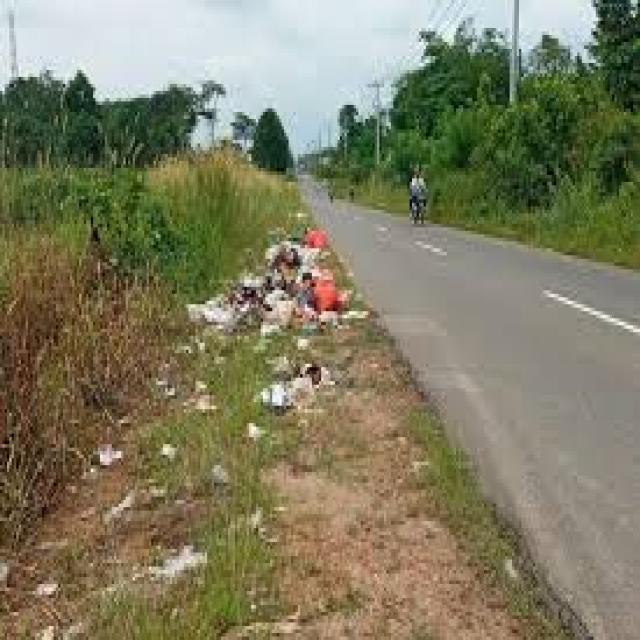trash: (192, 222, 389, 426)
